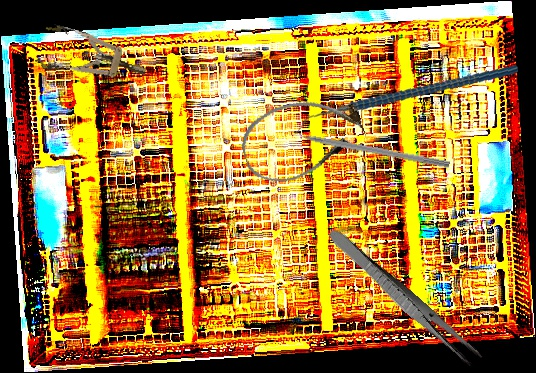Cannula: (233, 84, 373, 193)
Chopper: (293, 42, 519, 158)
Dressing Forceps: (323, 226, 485, 370)
Pusher: (278, 126, 451, 169)
Speculum: (33, 21, 152, 95)
